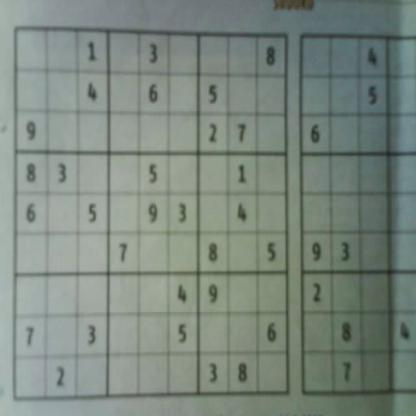sudoku: (8, 23, 292, 408)
